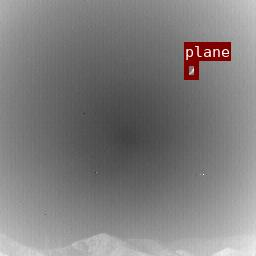plane: (184, 61, 198, 79)
